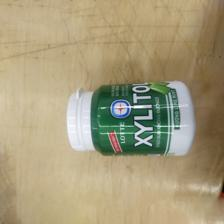Xylitol_green: (63, 78, 196, 158)
